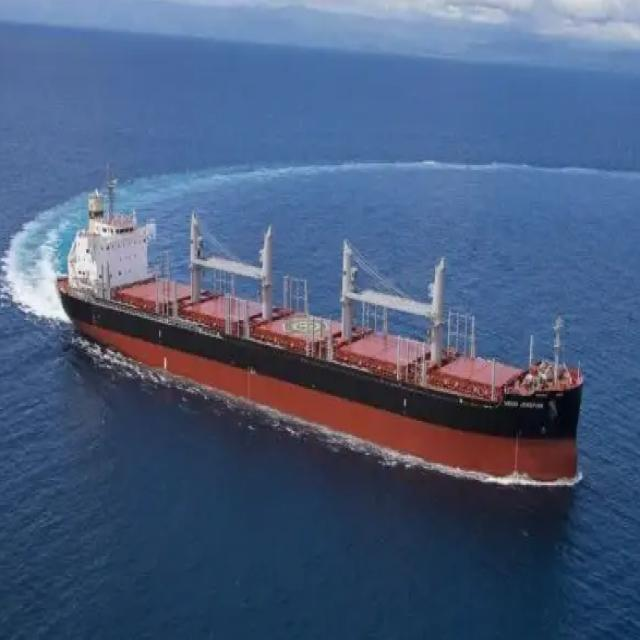cargoship: (58, 151, 590, 520)
